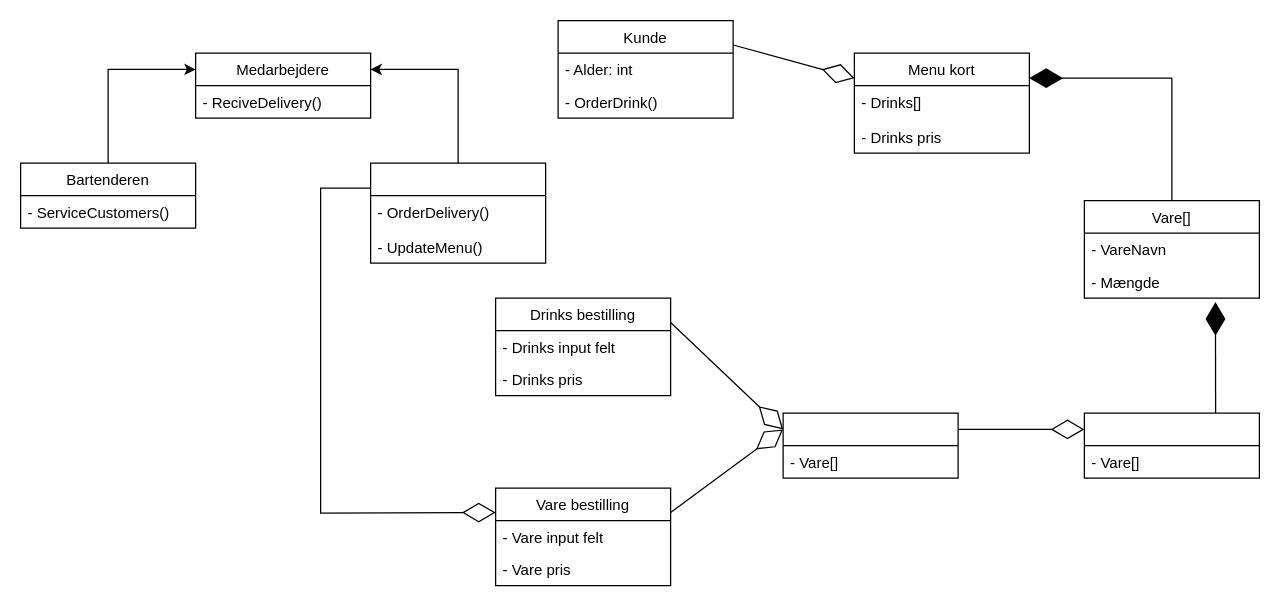
This 1280x606 diagram has some shape labels left out. Here are the shapes that lost their labels. From the top down, the box of each, then its label:
(369, 162, 546, 263): Ejer
(782, 412, 958, 478): Levering
(1083, 412, 1259, 478): Lager
